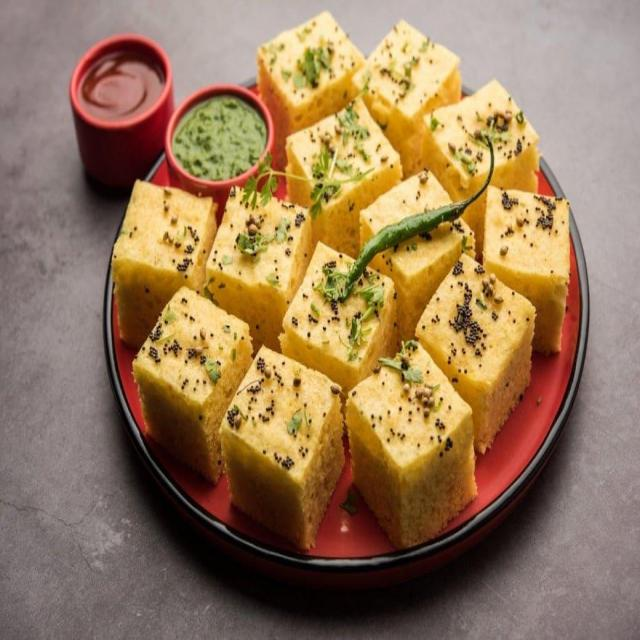dhokla: (133, 41, 537, 541)
